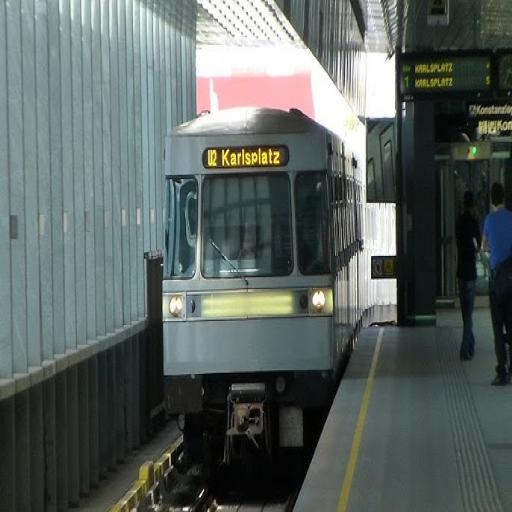Silberpfeil: (162, 105, 366, 409)
